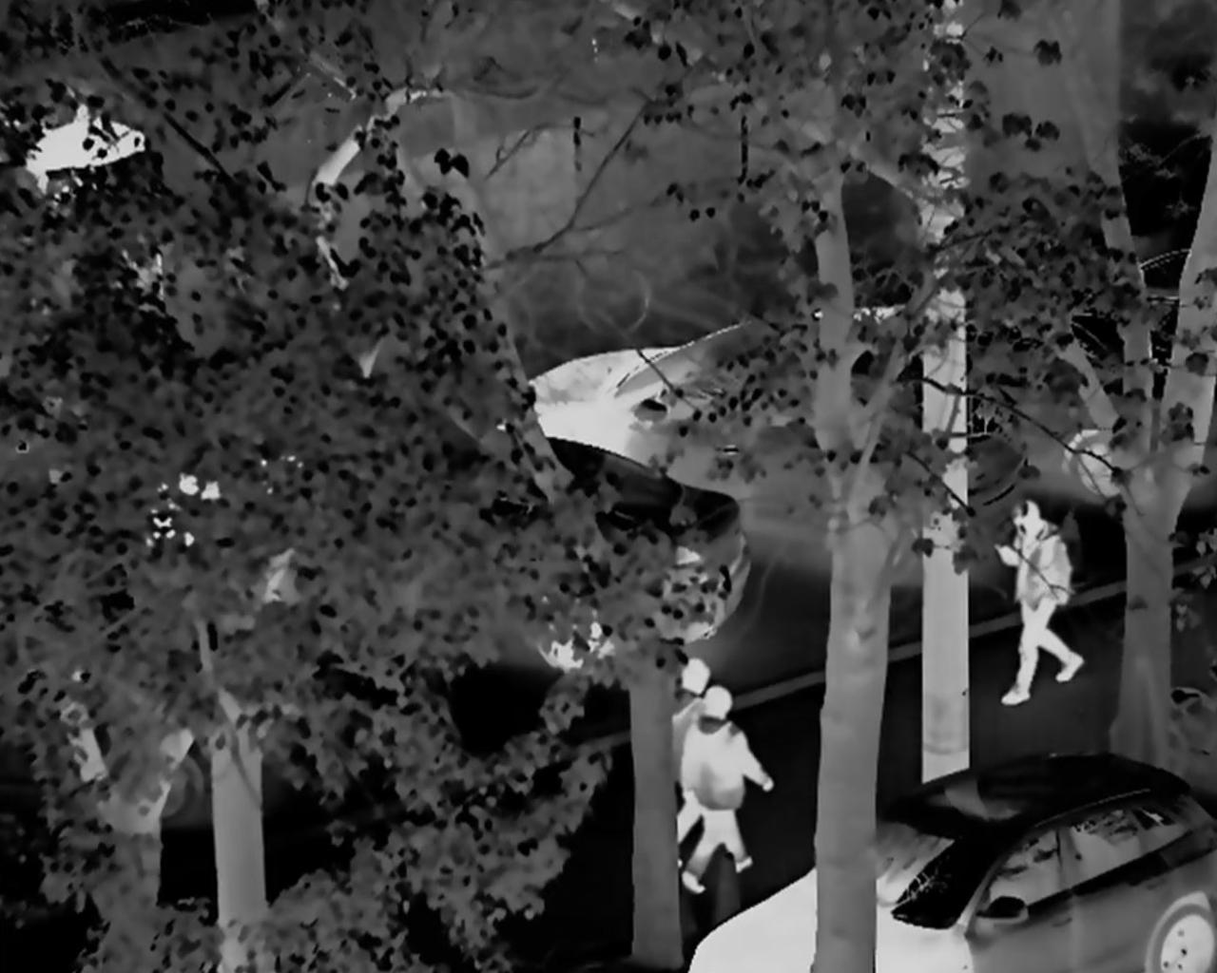person: (995, 491, 1085, 703), (687, 681, 771, 899), (665, 660, 715, 854)
